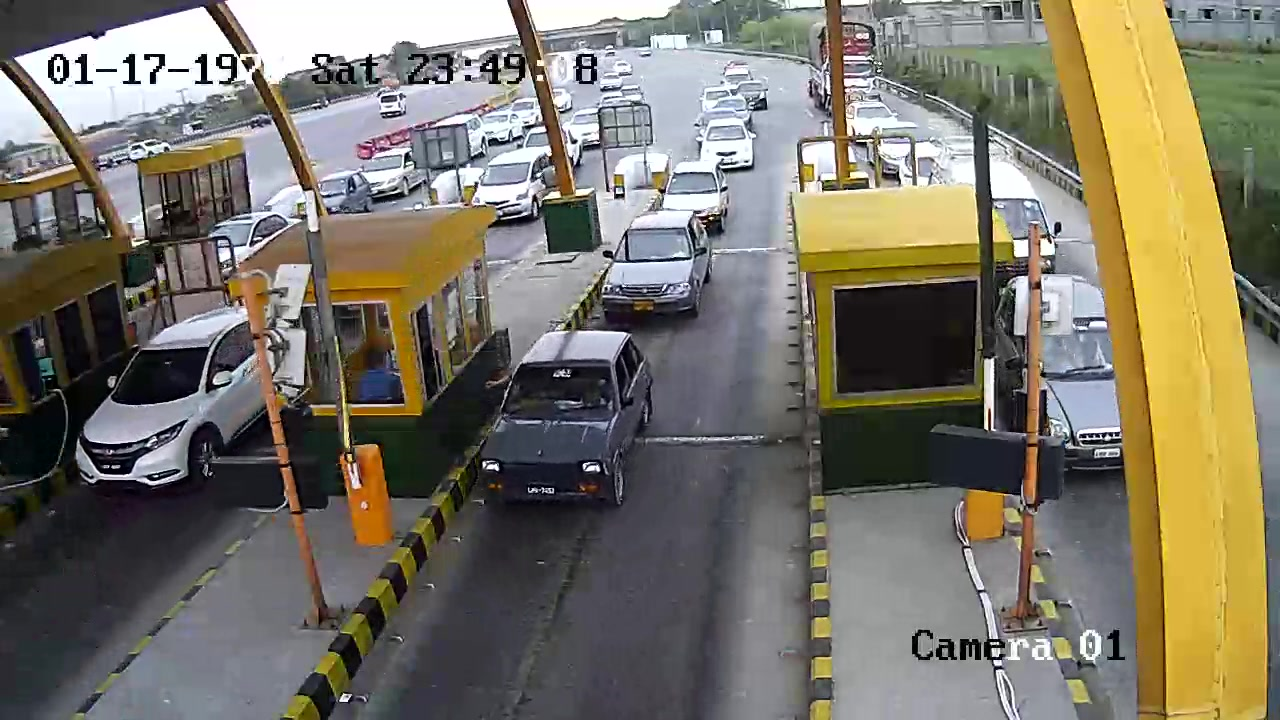F1: (474, 321, 671, 518), (600, 209, 717, 320)
